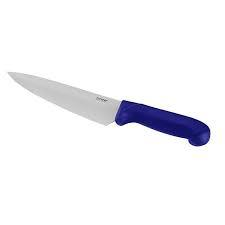Knife: (6, 70, 210, 146)
